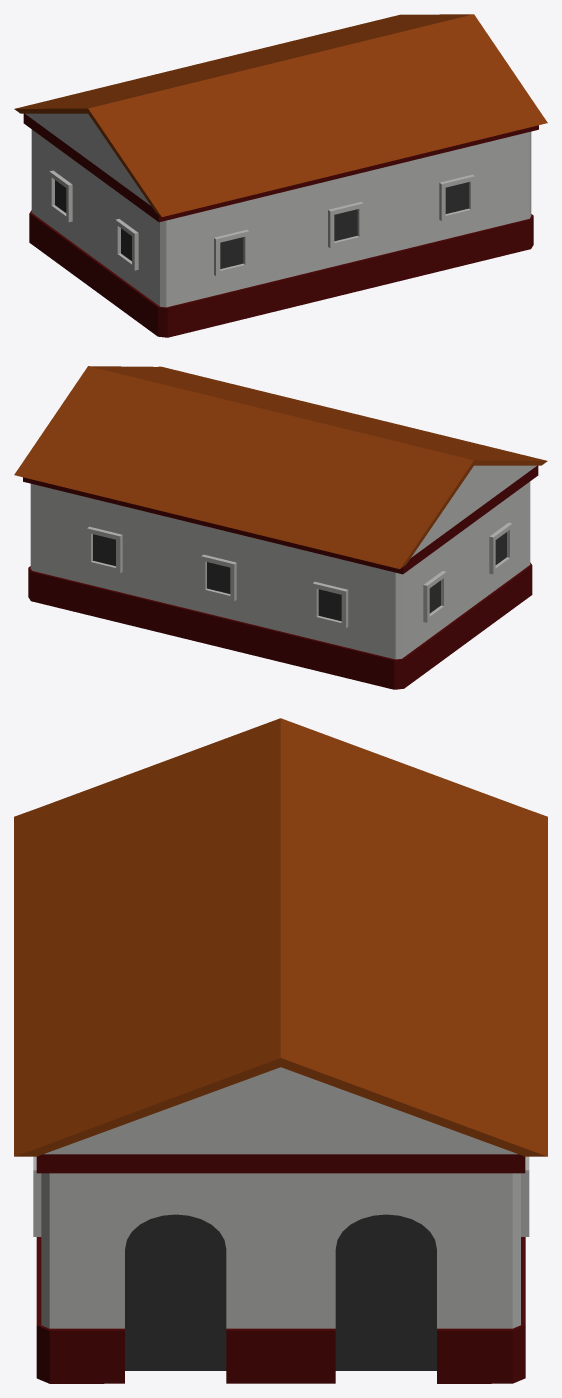
Rendered from Roman Building 2.fbx.
3 views of the same model, one above another, from view 1: azimuth 30°, elevation 25°; view 2: azimuth 150°, elevation 25°; view 3: azimuth 270°, elevation 25° (orthographic). The views are drawn at different scales.
Parts seen in each view (by area): view 1: Roman Building 2; view 2: Roman Building 2; view 3: Roman Building 2.
Boxes of the visible parts, bbox=[...] form: Roman Building 2: bbox=[14, 14, 547, 337]; Roman Building 2: bbox=[14, 366, 547, 689]; Roman Building 2: bbox=[14, 718, 547, 1383].
Size of the model in its own units: 1910 by 864 by 1268.
